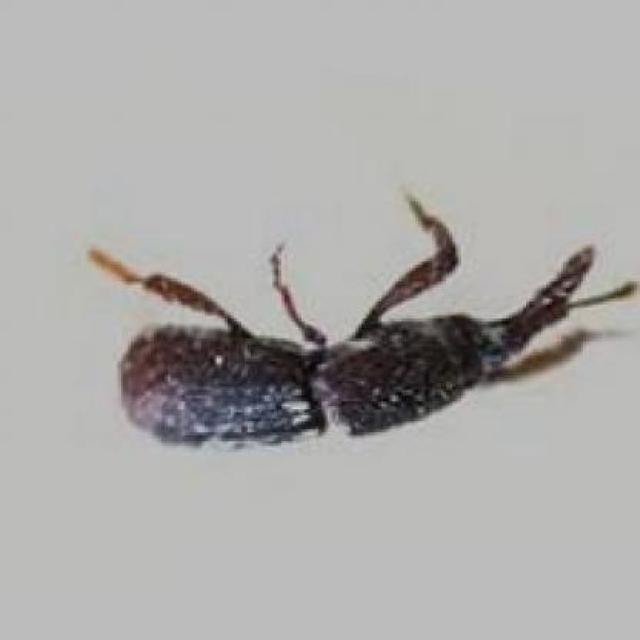rice-bug: (108, 227, 598, 448)
